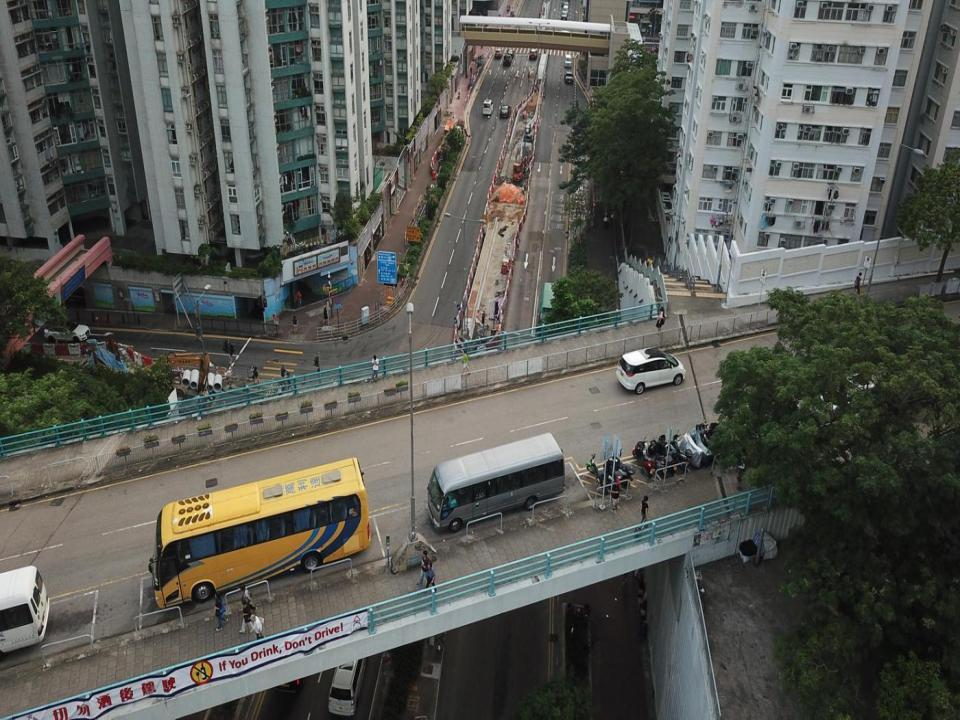bus: (148, 456, 371, 610), (427, 431, 565, 532), (0, 565, 49, 660)
car: (43, 319, 91, 343), (499, 105, 512, 117), (564, 70, 573, 84), (529, 50, 537, 61), (494, 48, 502, 58), (507, 49, 515, 58)
truck: (272, 598, 311, 696), (328, 640, 368, 714)
van: (820, 370, 890, 422), (616, 347, 685, 395), (481, 99, 494, 115), (502, 53, 511, 67), (564, 53, 572, 68), (562, 4, 569, 16), (561, 11, 567, 20), (563, 2, 568, 12)
